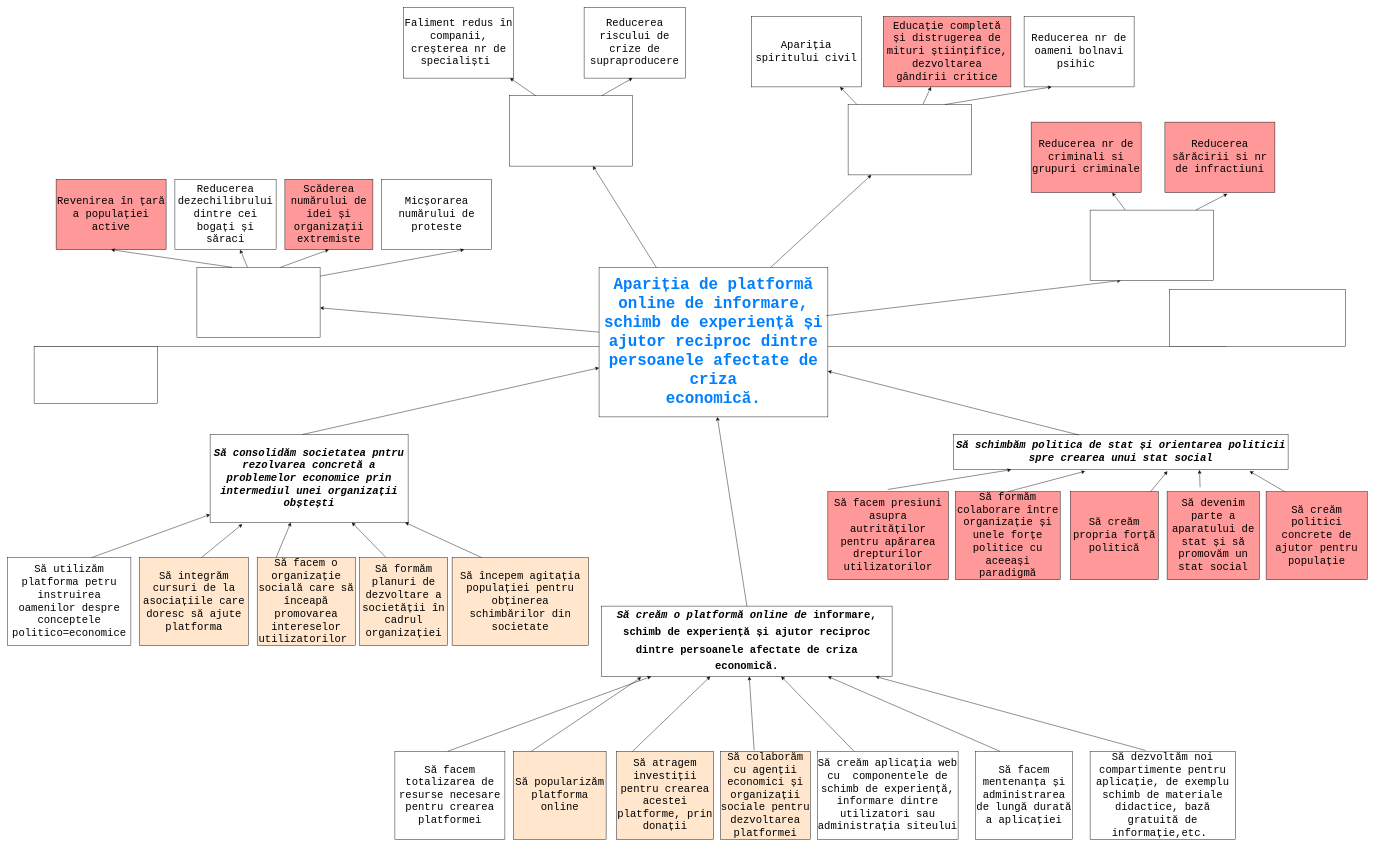
The diagram is 1375 pixels wide and 847 high, and some of its shapes have lost their labels. Each missing label, with the centre of its shape:
"Creșterea nivelului intelectual al societății" belongs at pixel 909 139.
"Dezvoltare stabilă a economiei" belongs at pixel 570 130.
"Micșorarea inegalității sociale" belongs at pixel 258 302.
"OBIECTIVE" belongs at pixel 95 375.
"REZULTATE" belongs at pixel 1257 317.
"Scăderea criminalității" belongs at pixel 1151 245.
